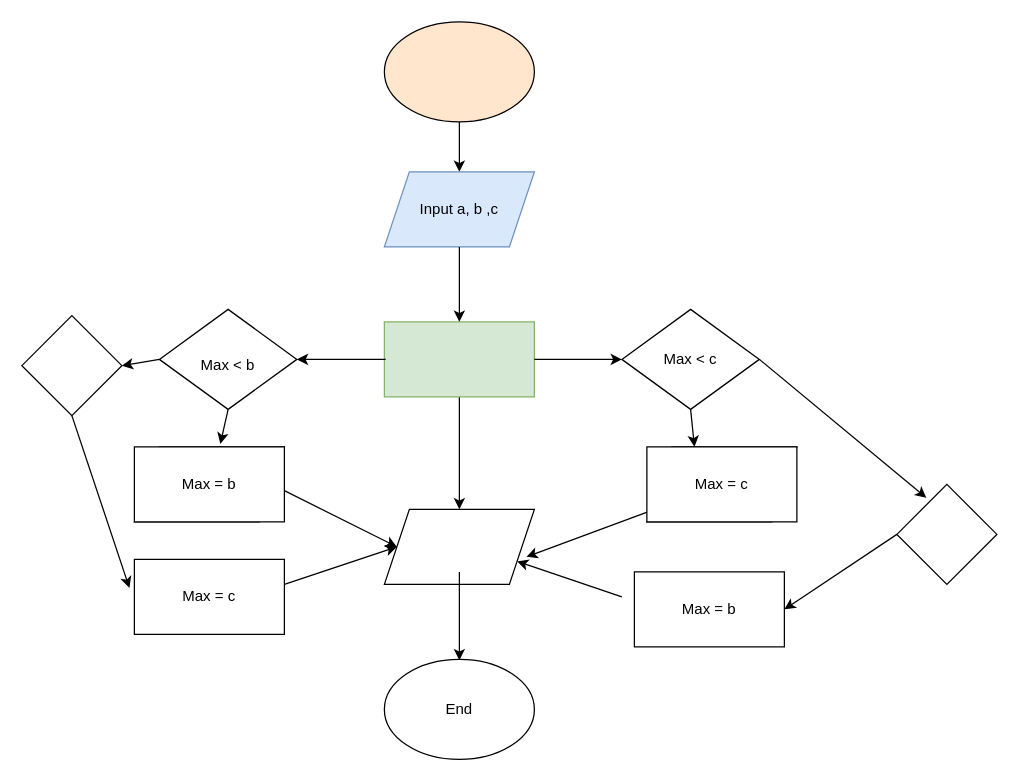
Image size: 1019x781. Some labels were removed from this diagram. Each missing label, with the centre of its shape:
"b < c" belongs at (x=71, y=365).
"Begin" belongs at (x=458, y=71).
"c < b" belongs at (x=946, y=533).
"Display Max" belongs at (x=458, y=546).
"Max = a" belongs at (x=458, y=359).
